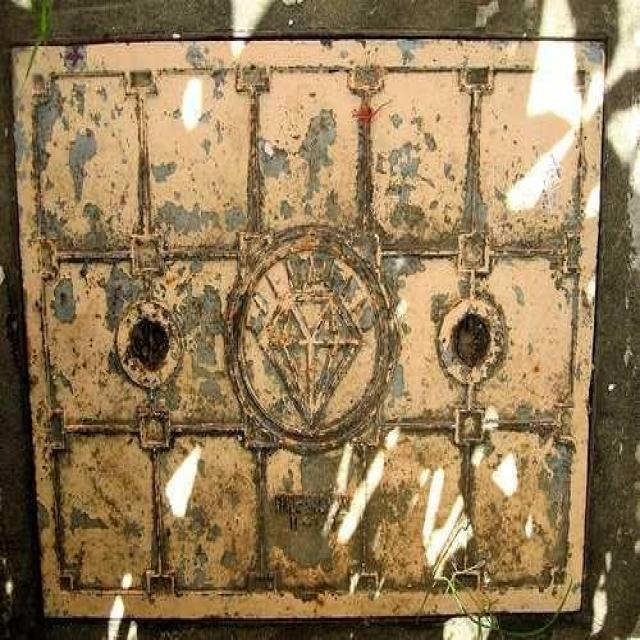manhole: (13, 40, 604, 618)
